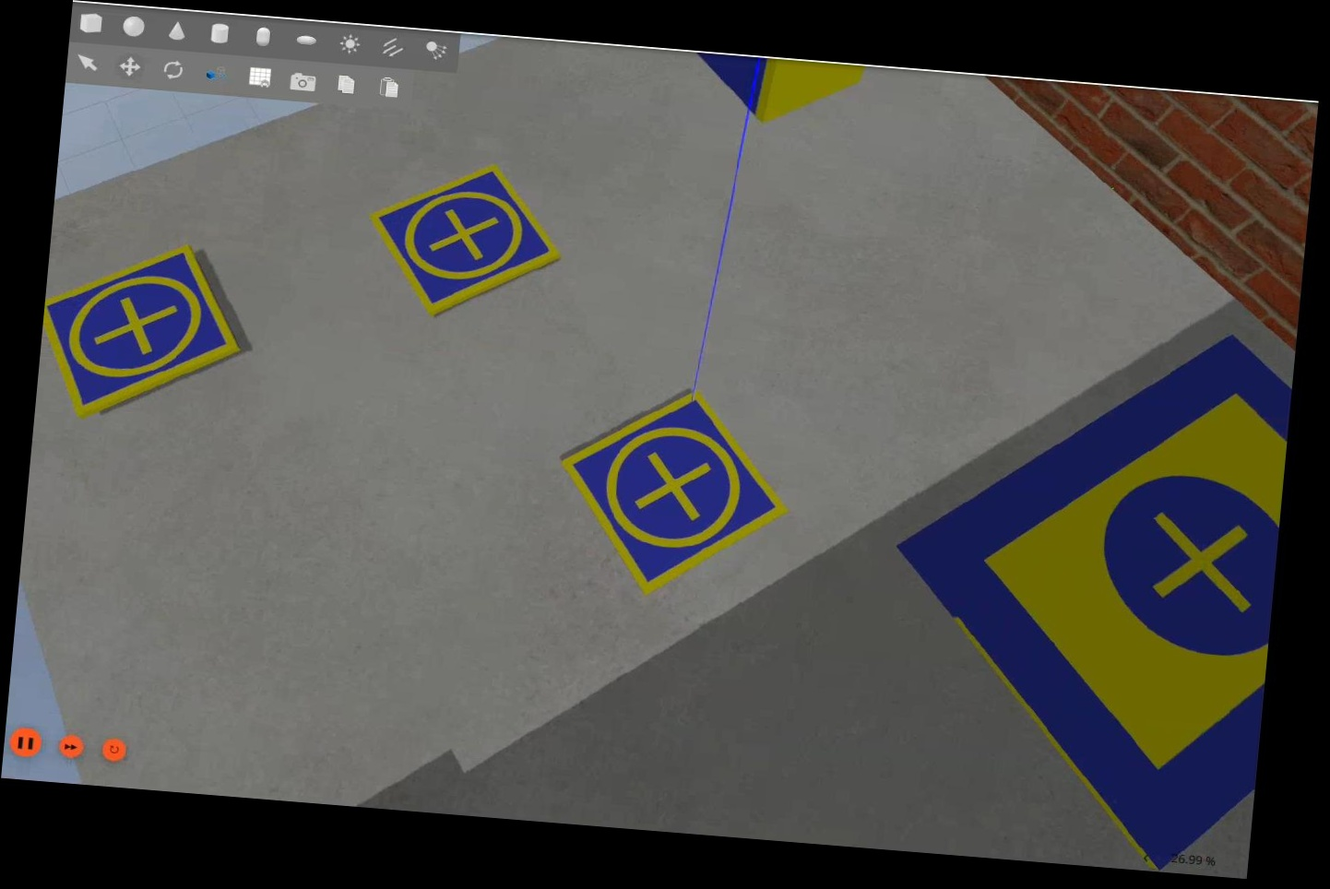large_base: (872, 308, 1298, 881)
small_base: (548, 380, 800, 608), (35, 234, 250, 426), (363, 157, 570, 326)
